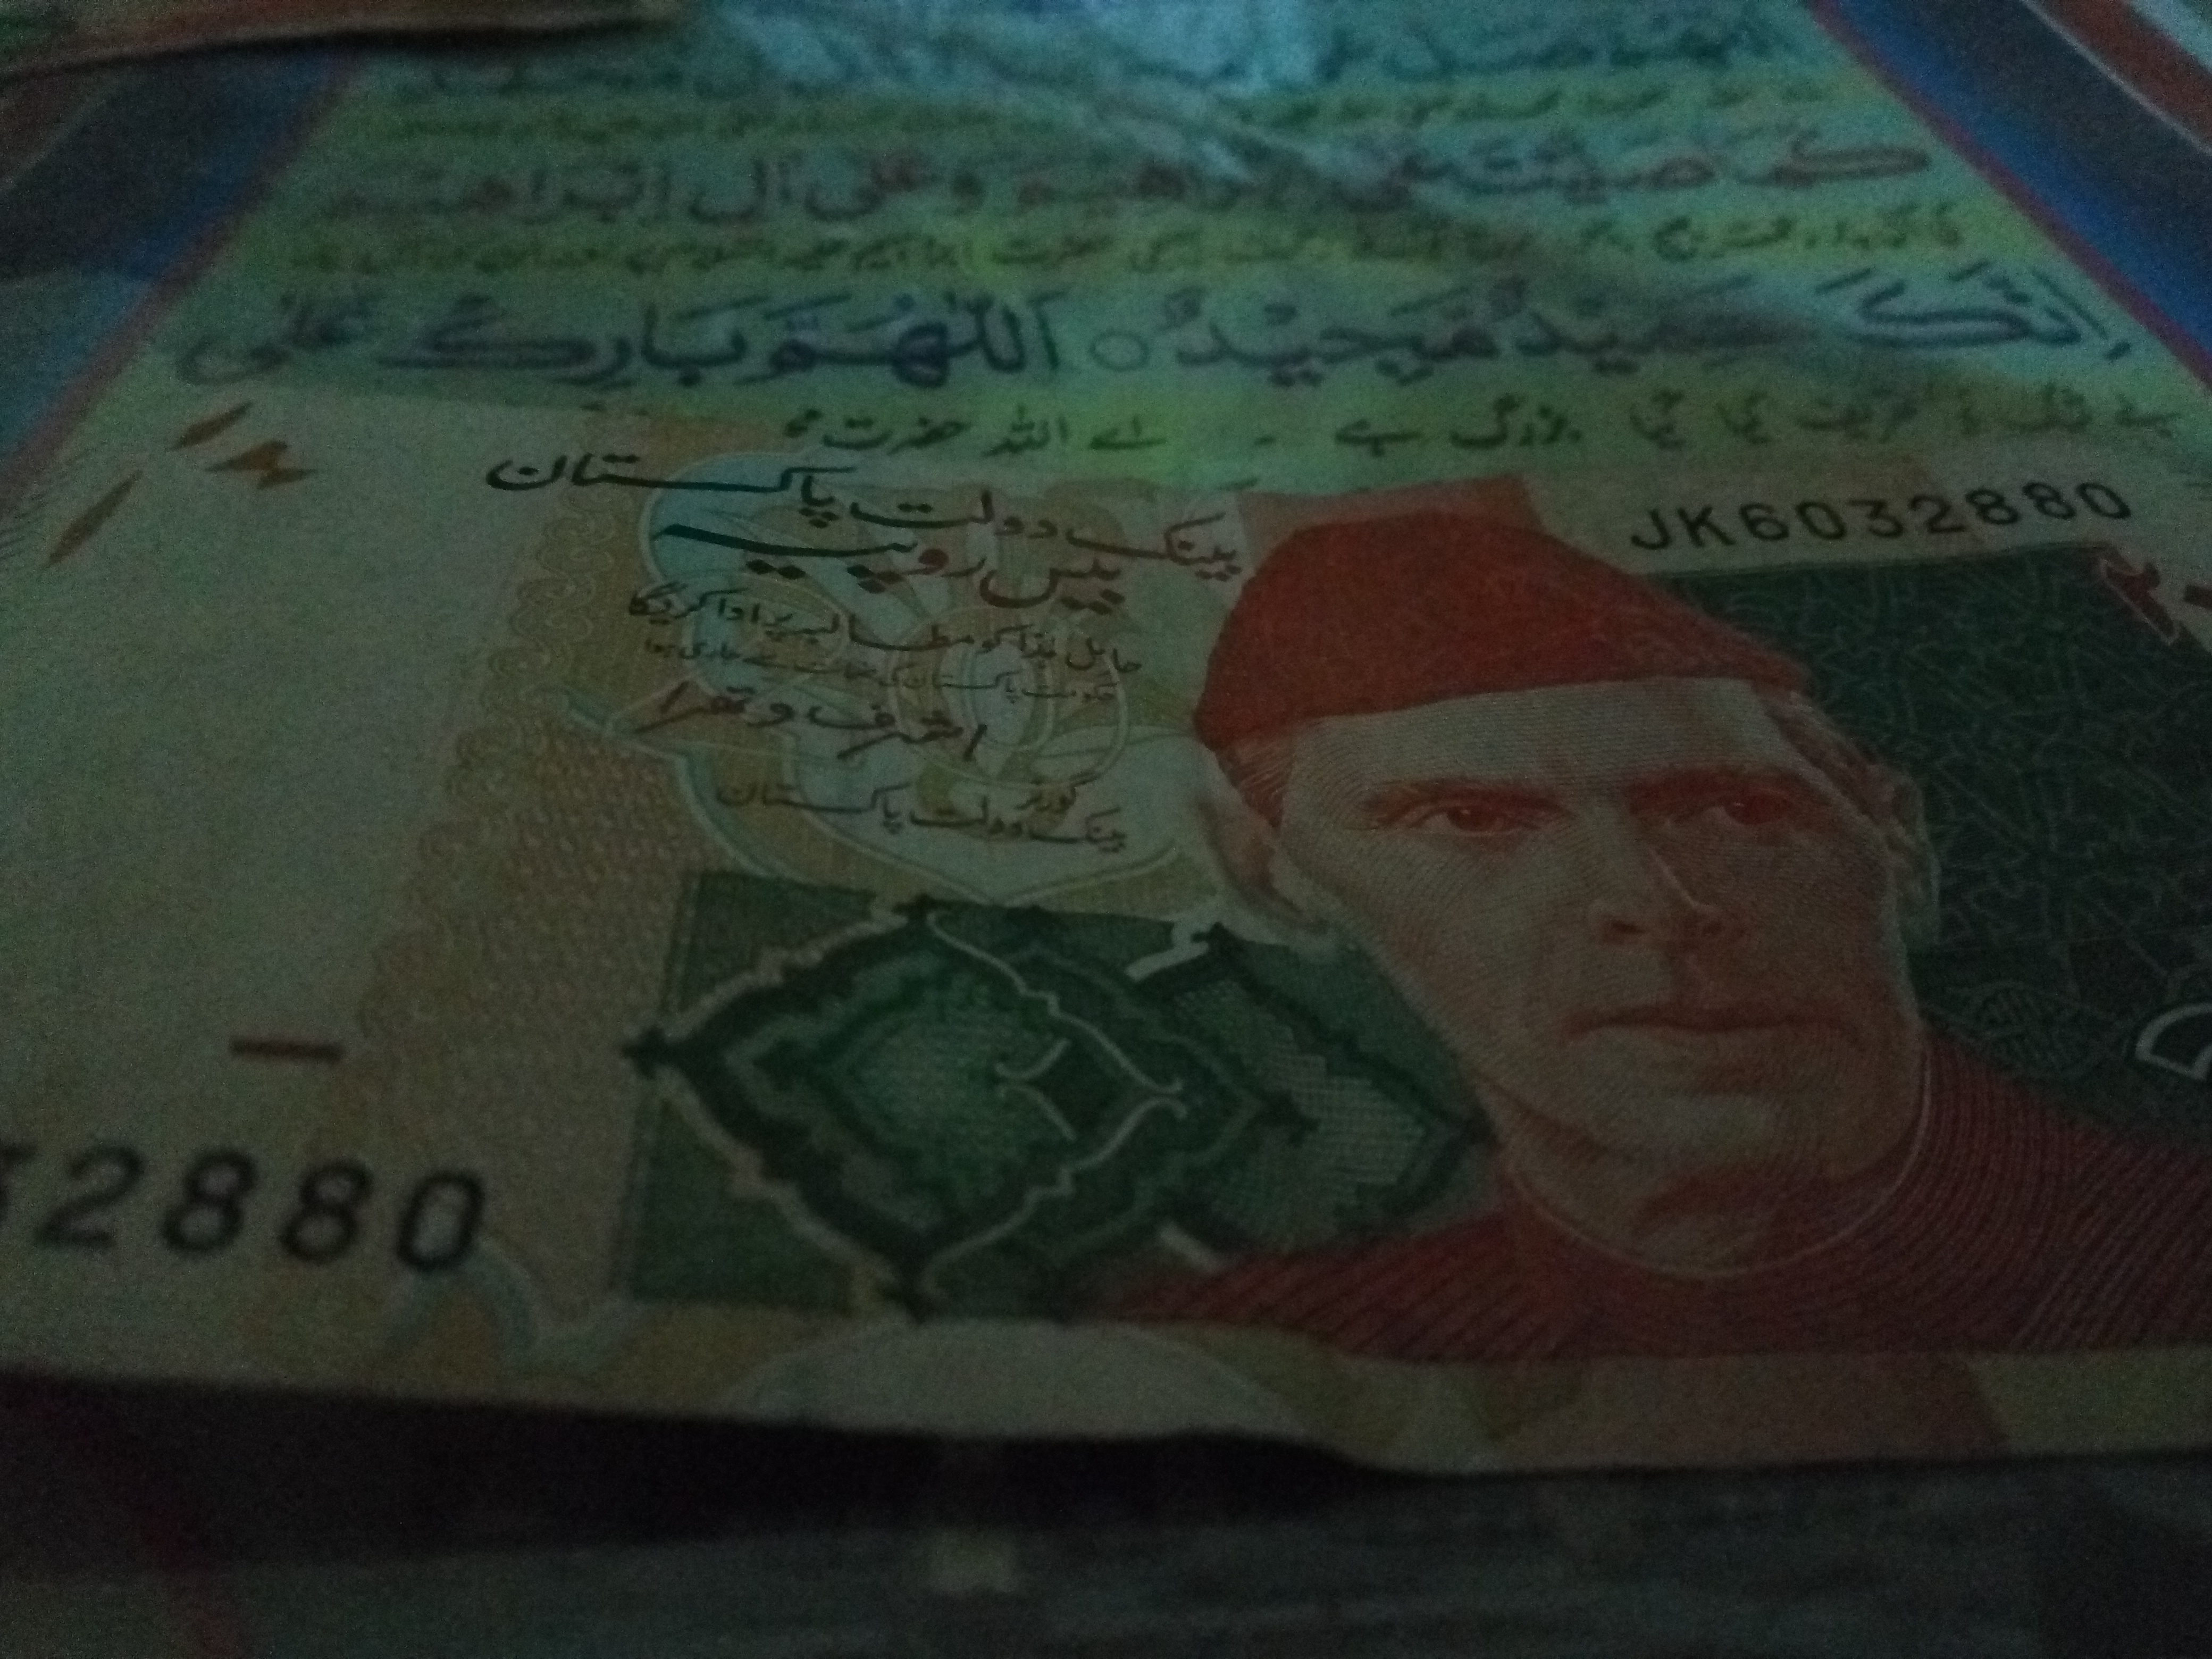20 rupee: (92, 331, 2193, 1546), (202, 943, 387, 1147)
